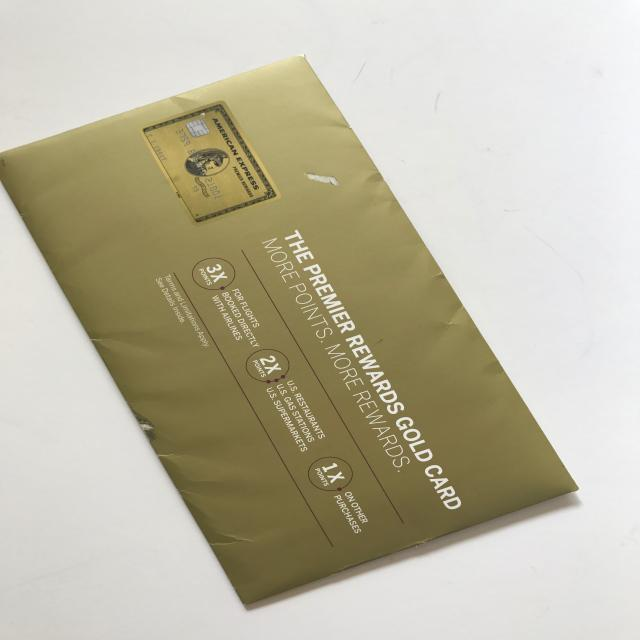paper: (1, 53, 580, 607)
